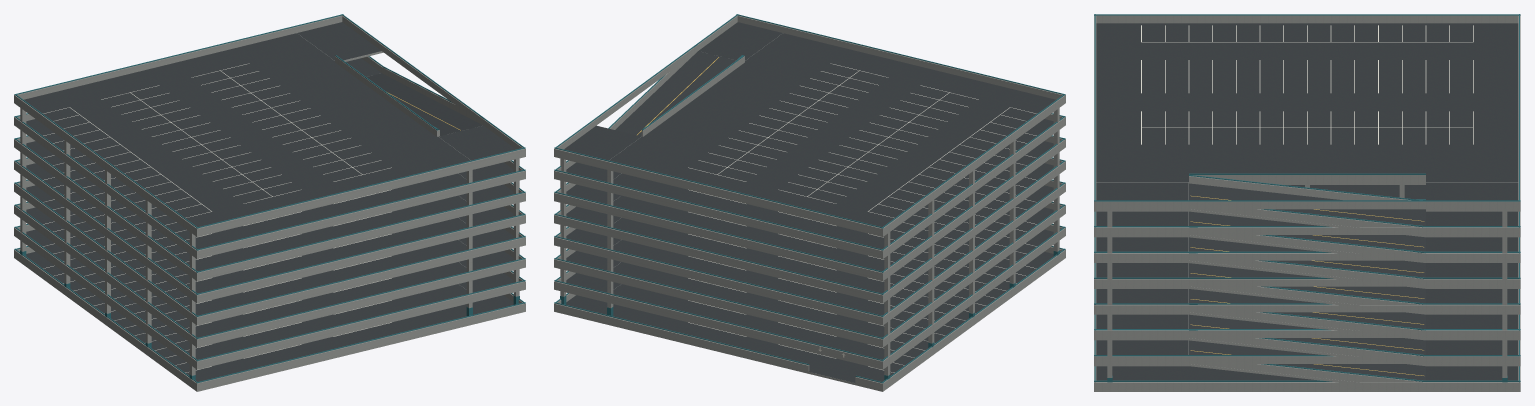
Rendered from large_08.glb.
3 renders of one model, left to right at view 1: azimuth 30°, elevation 25°; view 2: azimuth 150°, elevation 25°; view 3: azimuth 270°, elevation 25°, orthographic. The views are drawn at different scales.
Visible parts, largest first — view 1: large_08_Asphalt, large_08_Concrete, large_08_Teal, large_08_Paint; view 2: large_08_Asphalt, large_08_Concrete, large_08_Teal, large_08_Paint; view 3: large_08_Asphalt, large_08_Concrete, large_08_Teal, large_08_Paint, large_08_Yellow.
Part boxes in pixels (box(x1,y1,x2,y2)): large_08_Asphalt: box(24, 22, 515, 381); large_08_Concrete: box(14, 15, 525, 391); large_08_Teal: box(14, 14, 525, 383); large_08_Paint: box(43, 63, 391, 372); large_08_Asphalt: box(564, 22, 1055, 382); large_08_Concrete: box(554, 15, 1065, 391); large_08_Teal: box(554, 14, 1065, 383); large_08_Paint: box(688, 63, 1036, 372); large_08_Asphalt: box(1096, 23, 1518, 380); large_08_Concrete: box(1094, 15, 1520, 391); large_08_Teal: box(1094, 14, 1520, 382); large_08_Paint: box(1141, 25, 1473, 144); large_08_Yellow: box(1190, 195, 1424, 375).
Bounding box in the file's own units: 56 × 26.68 × 54.02.
Materials: 6 (2 with a texture image).
